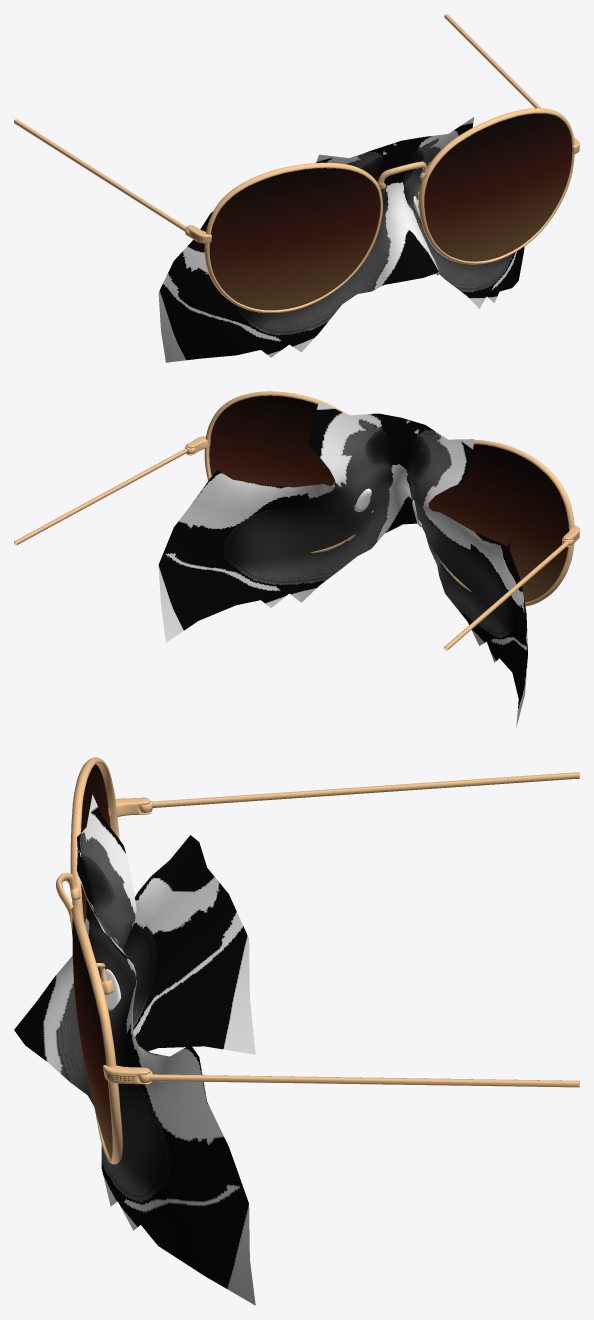
File: PF_eyeware.obj
3 renders of one model, top to bottom at view 1: azimuth 30°, elevation 25°; view 2: azimuth 150°, elevation 25°; view 3: azimuth 270°, elevation 25°, orthographic. The views are drawn at different scales.
Size of the model in its own units: 14.02 by 6.95 by 10.78.
Materials: 4 (4 with a texture image).
